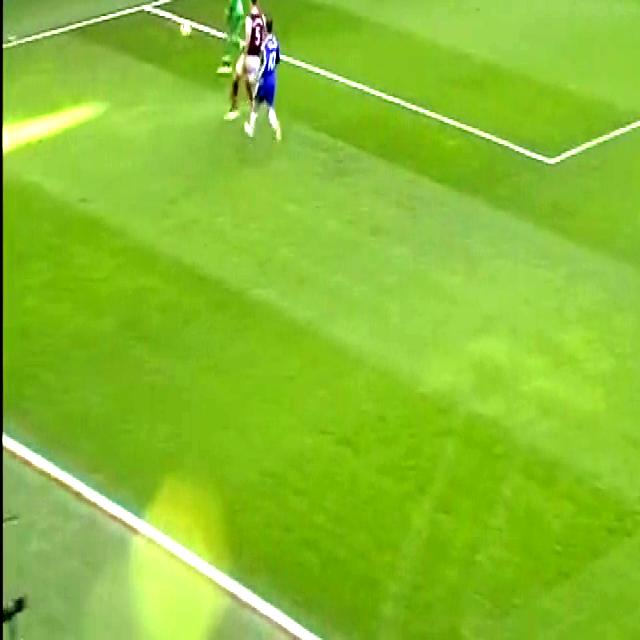ball: (176, 12, 196, 47)
goalkeeper: (215, 0, 250, 84)
soccer-player: (252, 12, 294, 156), (226, 0, 268, 130)
